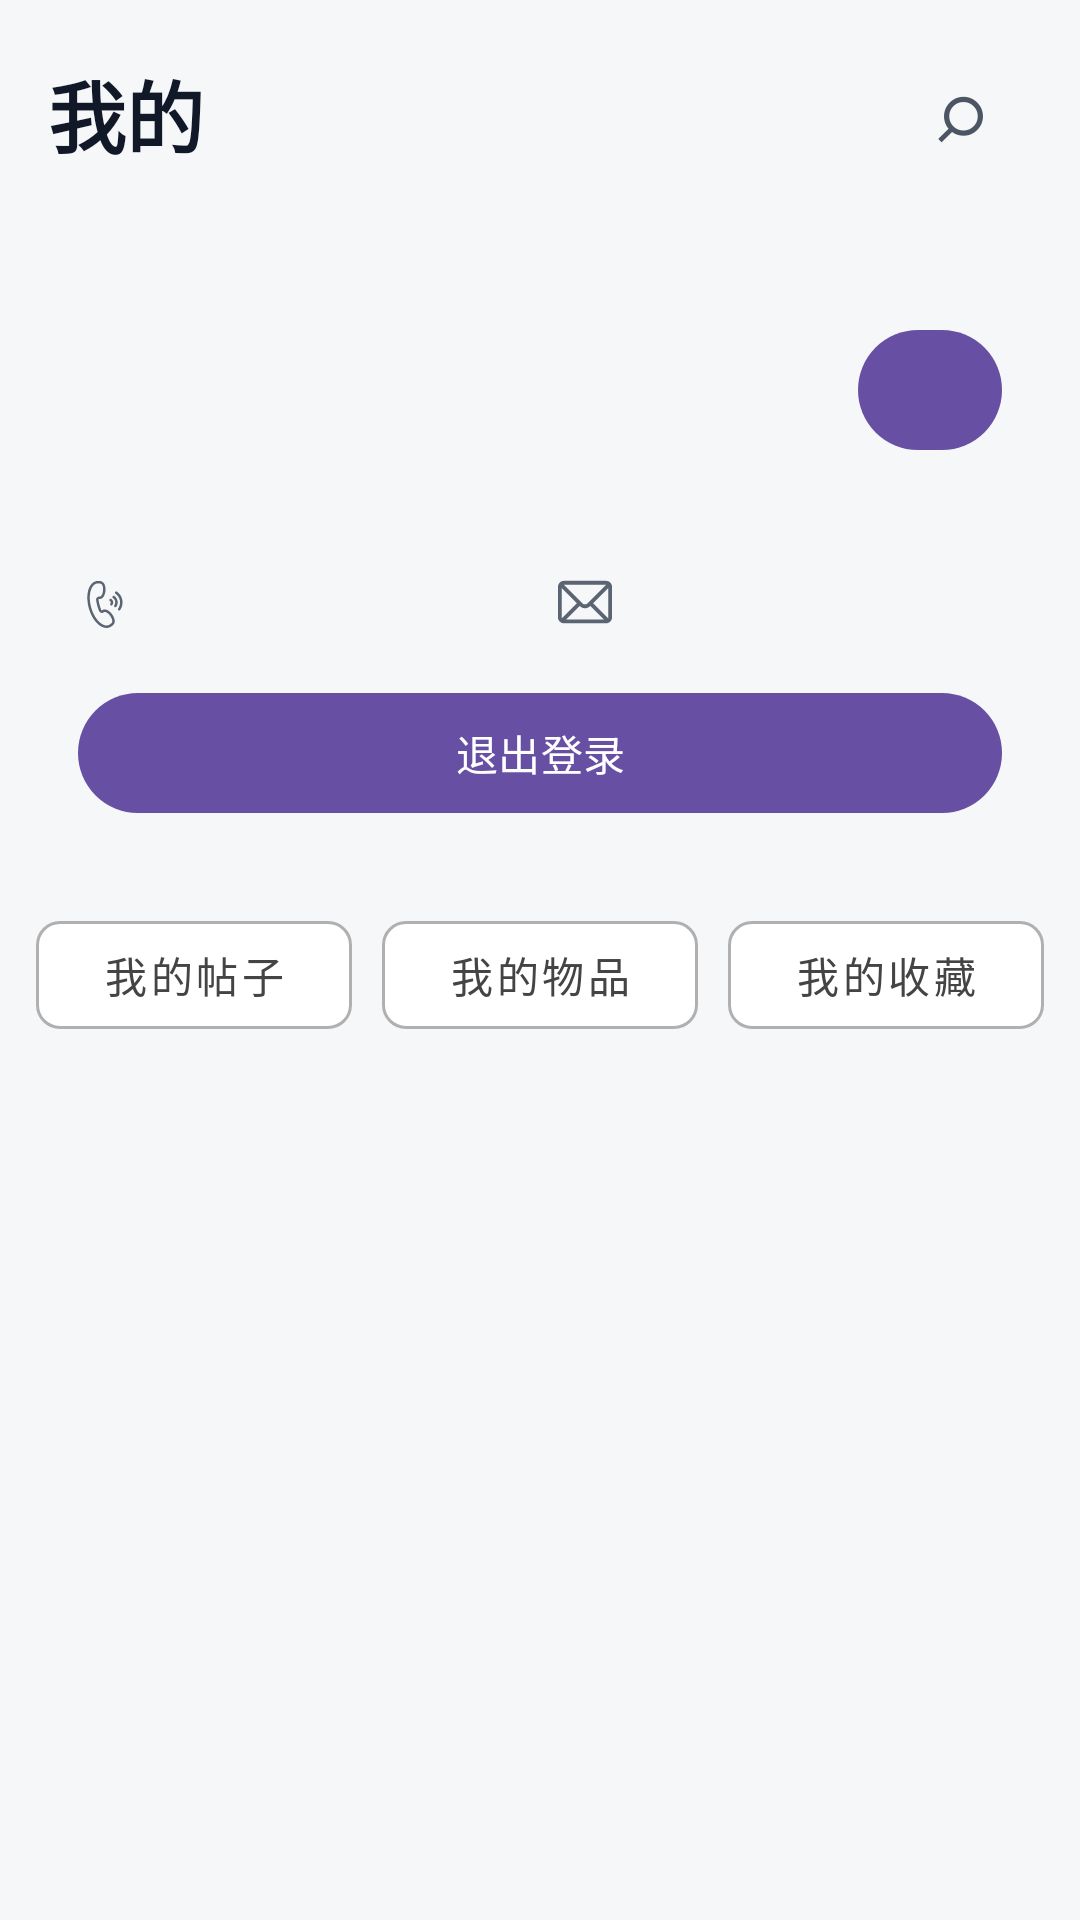

Icons on this 1080×1920 Android screen, each with its box as (x1, y1, x2, y2):
email: (558, 580, 612, 624)
phone: (87, 581, 123, 628)
